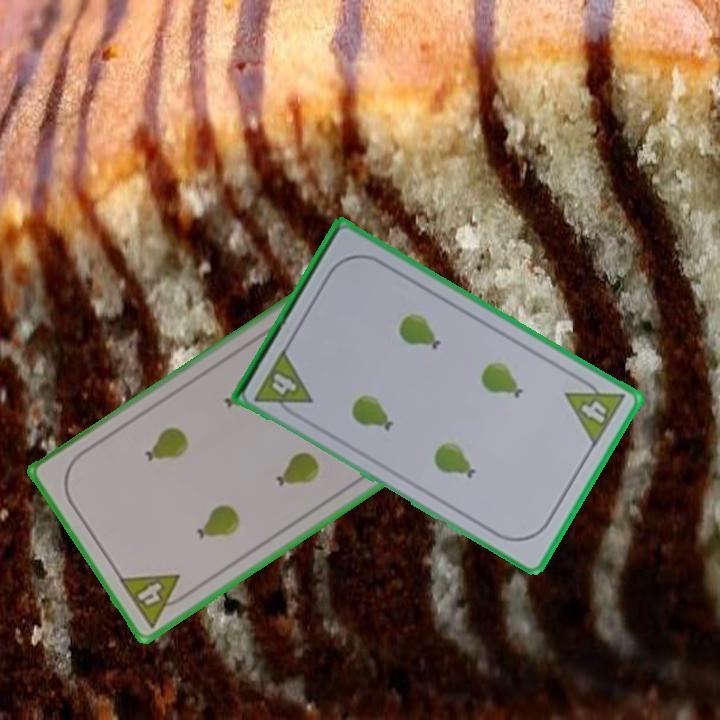4p: (562, 371, 628, 450), (251, 345, 316, 422), (115, 570, 194, 631)
